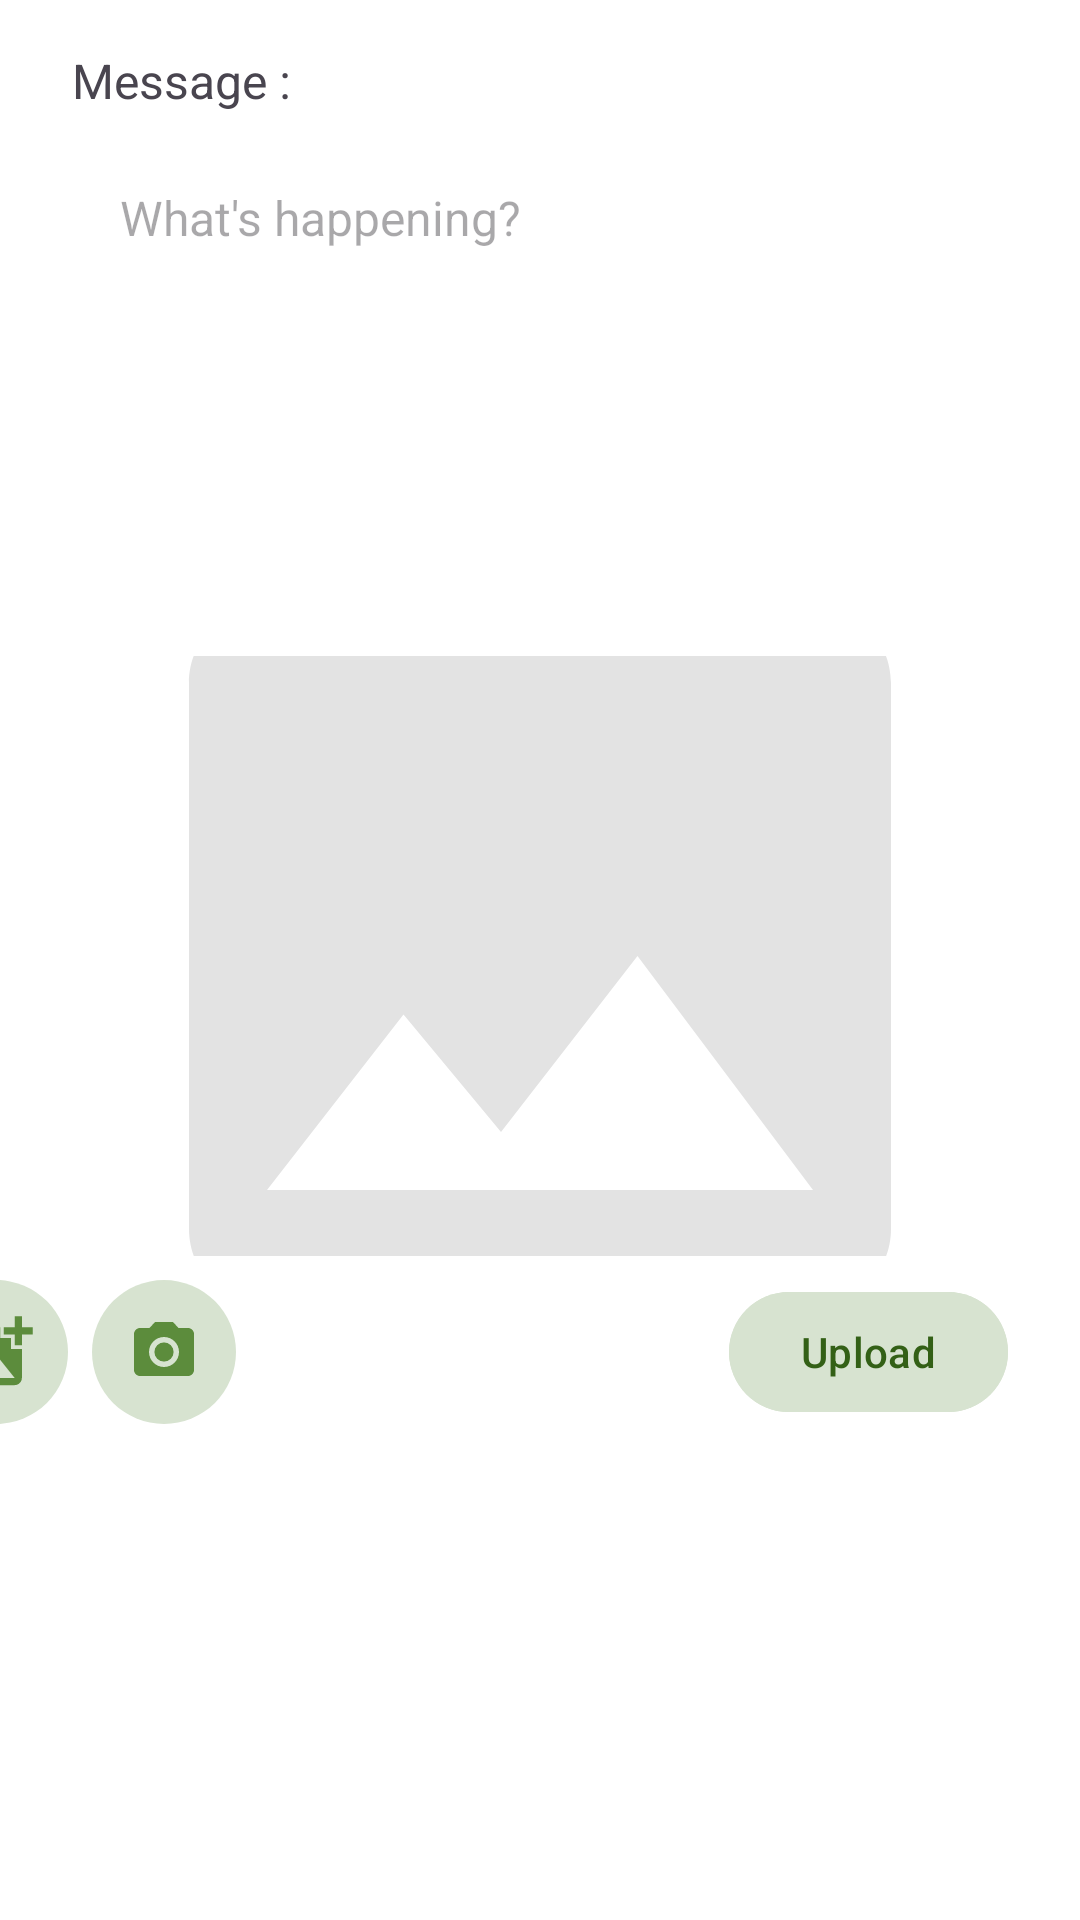

Point at icon controls on the screen. Image size 1080 x 1920, points as (x=x, y=y).
camera: (x=164, y=1352)
